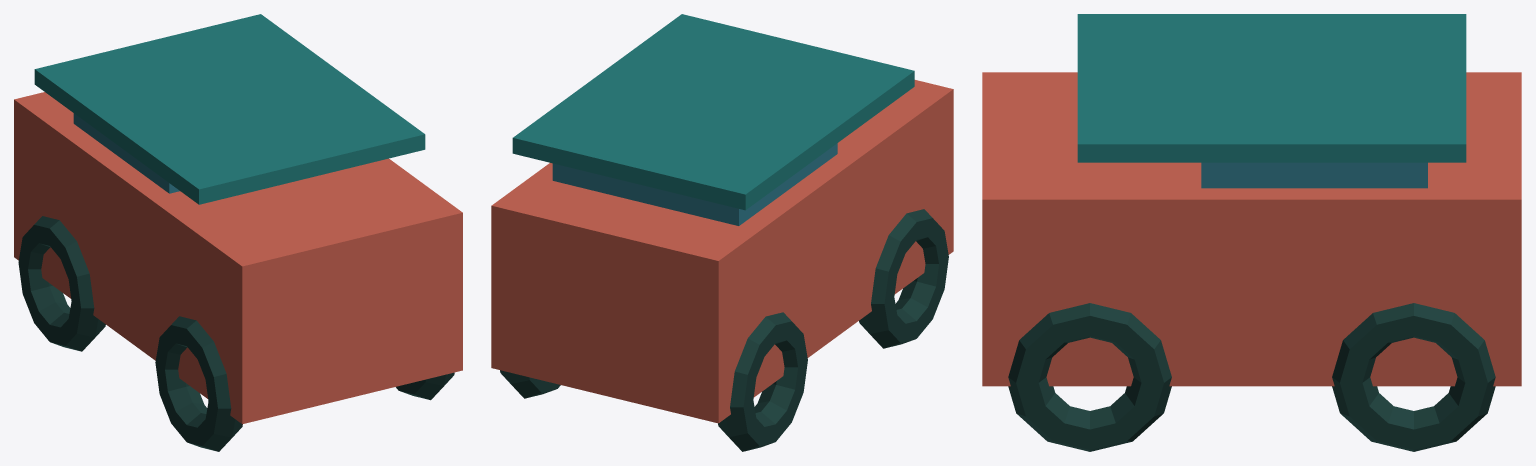
The model's file is vehicle_car.glb.
The picture shows the model from 3 angles, left to right: view 1: azimuth 30°, elevation 25°; view 2: azimuth 150°, elevation 25°; view 3: azimuth 270°, elevation 25°; orthographic projection. The views are drawn at different scales.
Parts seen in each view (by area): view 1: rough, glossy; view 2: rough, glossy; view 3: rough, glossy.
Boxes of the visible parts, <box> form: rough: <box>14,14,462,451</box>; glossy: <box>73,113,179,193</box>; rough: <box>491,14,953,451</box>; glossy: <box>552,143,837,225</box>; rough: <box>982,14,1521,451</box>; glossy: <box>1201,162,1427,188</box>.
Bounding box in the file's own units: 1.31 × 1.37 × 2.15.
